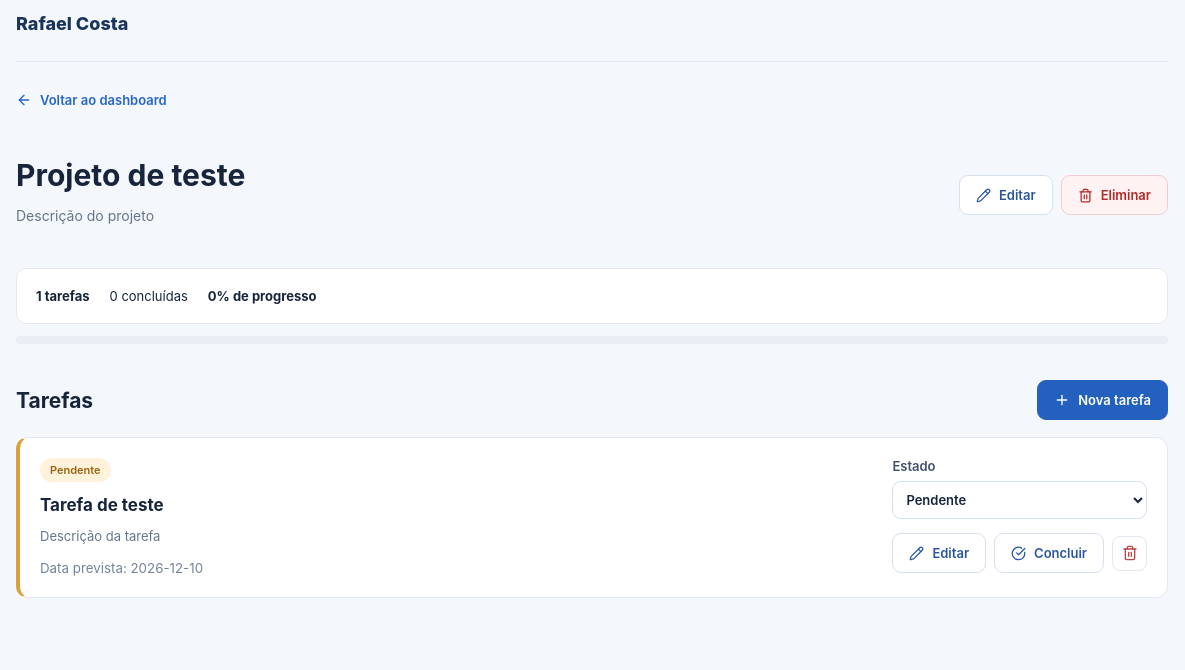
Test: Ramificações adicionais de ProjectDetail › atualiza o estado através do seletor
Expected: the heading "Projeto de teste" is shown, [16, 157, 245, 193]
Expected: the heading "Tarefa de teste" is shown, [40, 495, 164, 515]
Select "Em progresso" in the dropdown named "Estado de Tarefa de teste". click: (1020, 500)
box: [892, 481, 1147, 519]
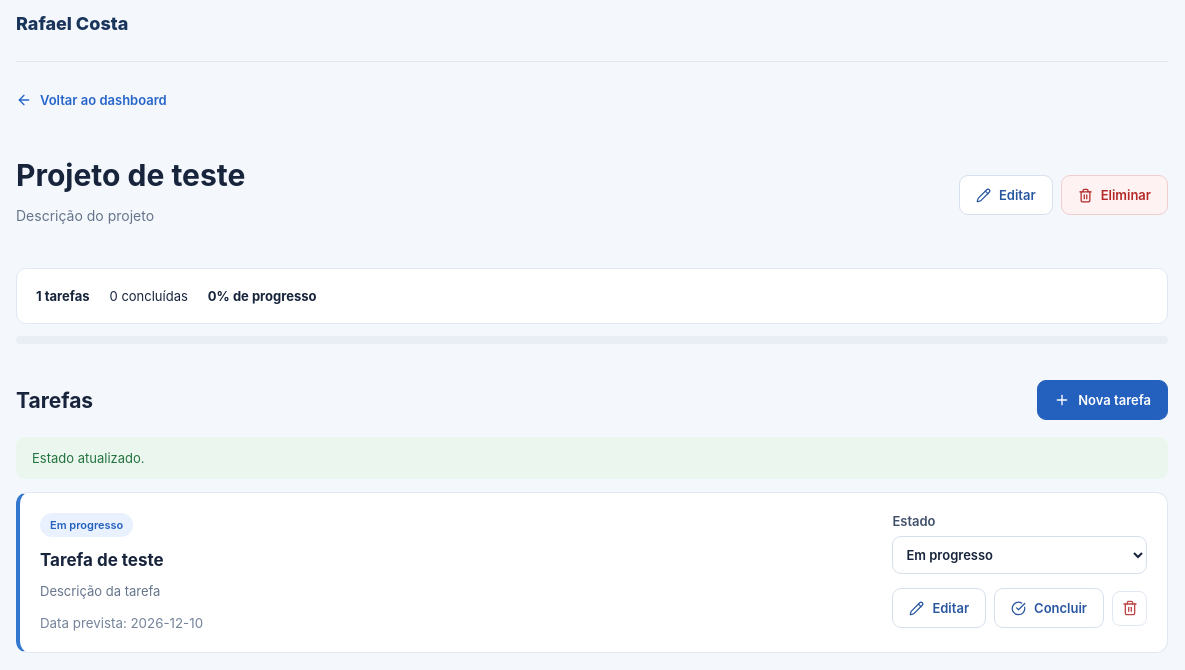
Expected: the text with class "status-em_progresso" reads "Em progresso", [50, 518, 123, 532]
